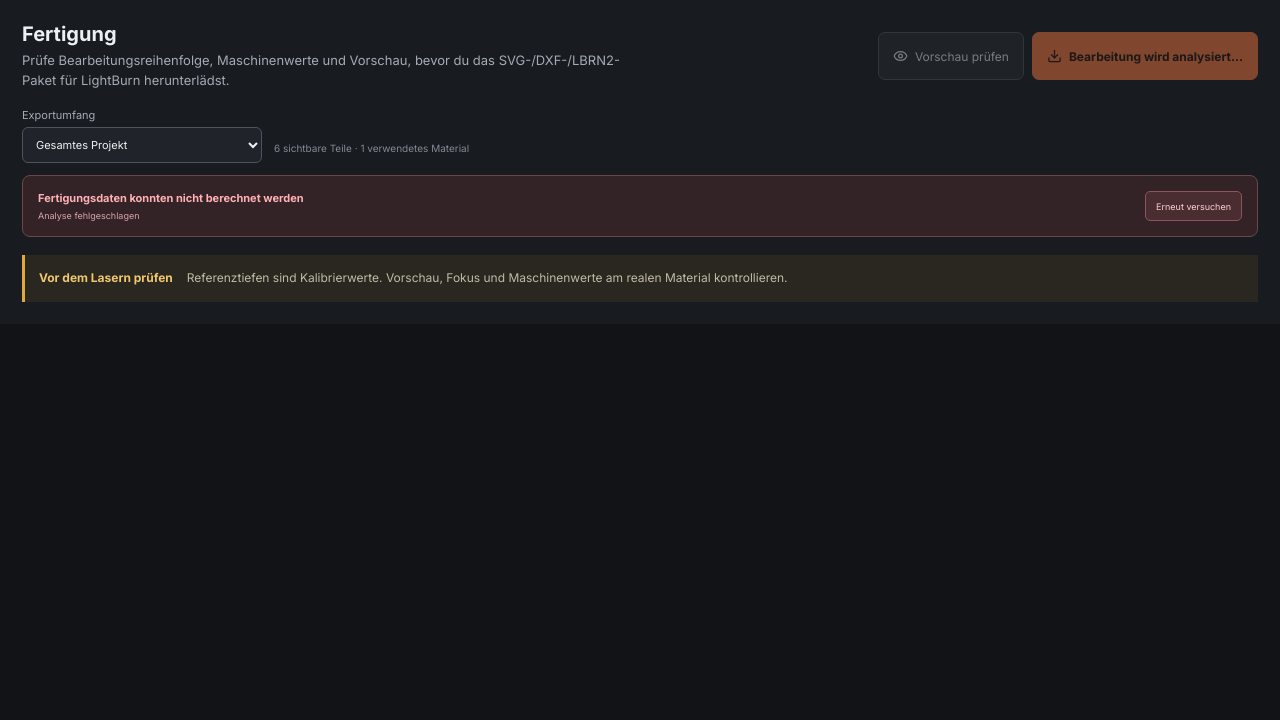
Test: ExportWorkspace › retries a failed analysis and displays package errors
The image size is (1280, 720).
Check: the text "Analyse fehlgeschlagen" is shown, box left=38, top=210, right=140, bottom=221
Click the button "Erneut versuchen" at x=1194, y=206, box left=1145, top=191, right=1242, bottom=221
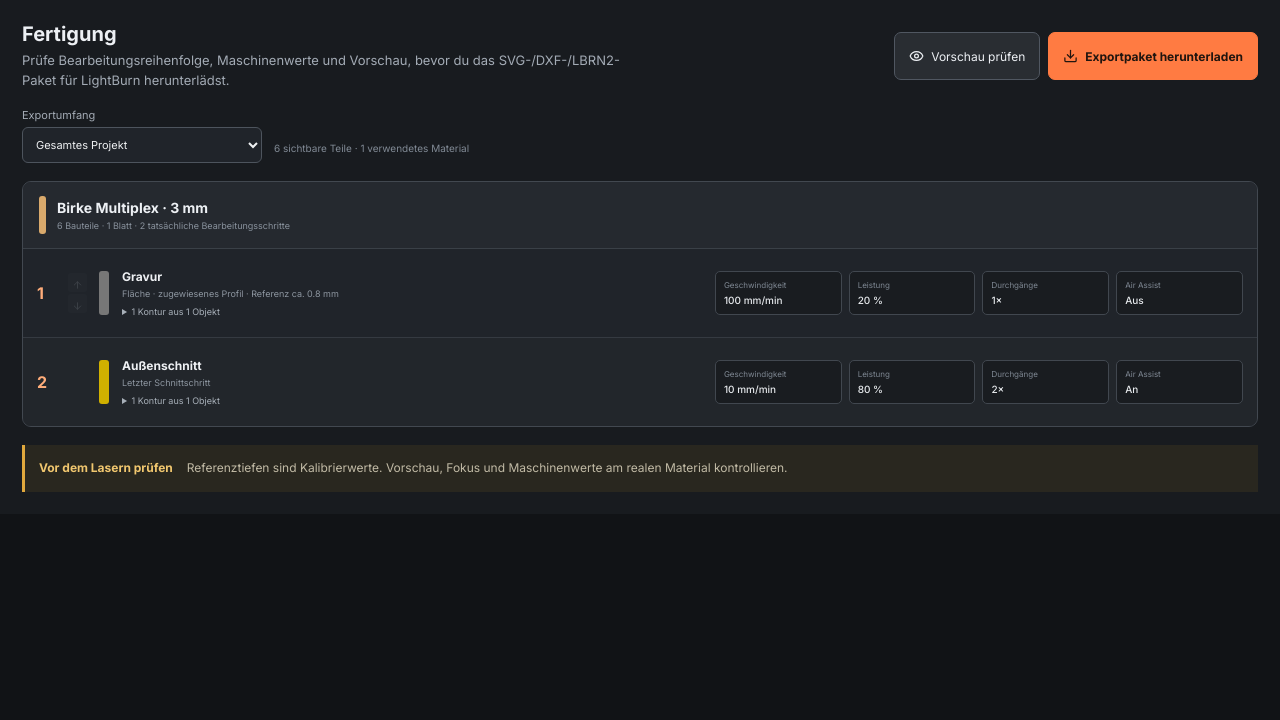
Check: the text "Gravur" is shown, box left=122, top=269, right=162, bottom=284
Click the button "Exportpaket herunterladen" at x=1153, y=56, box left=1048, top=32, right=1258, bottom=80
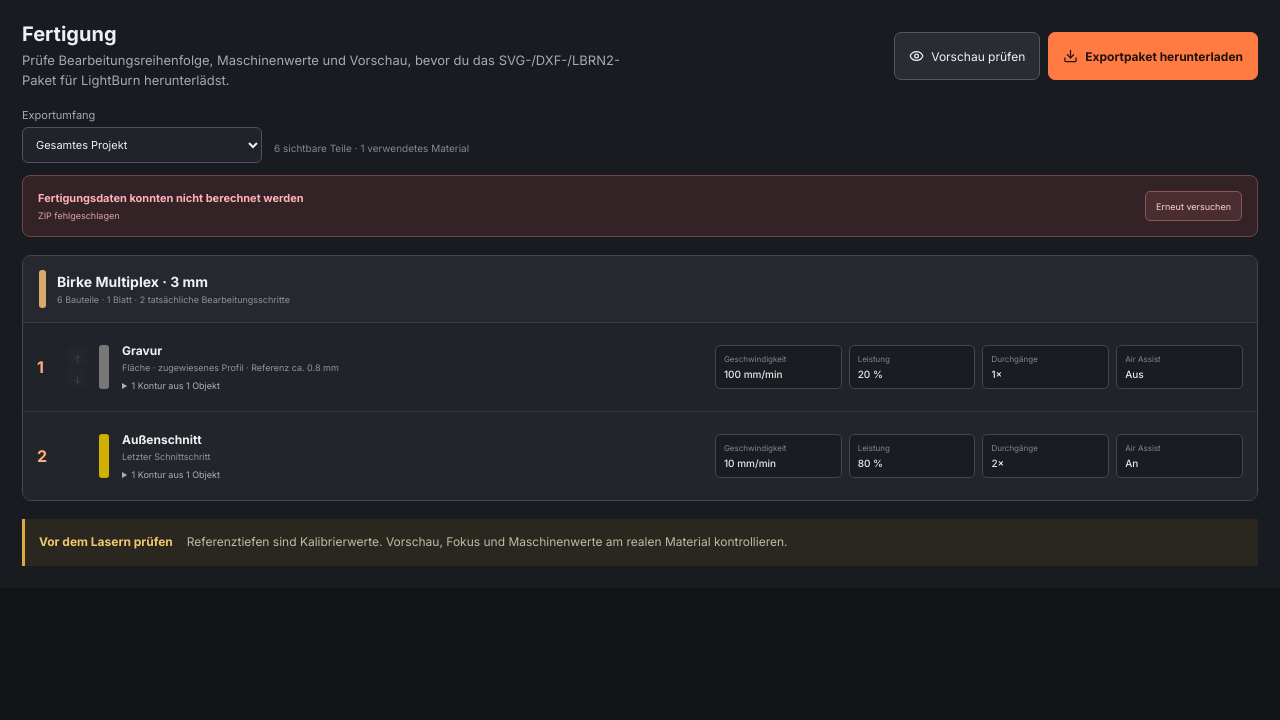
Check: the text "ZIP fehlgeschlagen" is shown, box left=38, top=210, right=120, bottom=221
